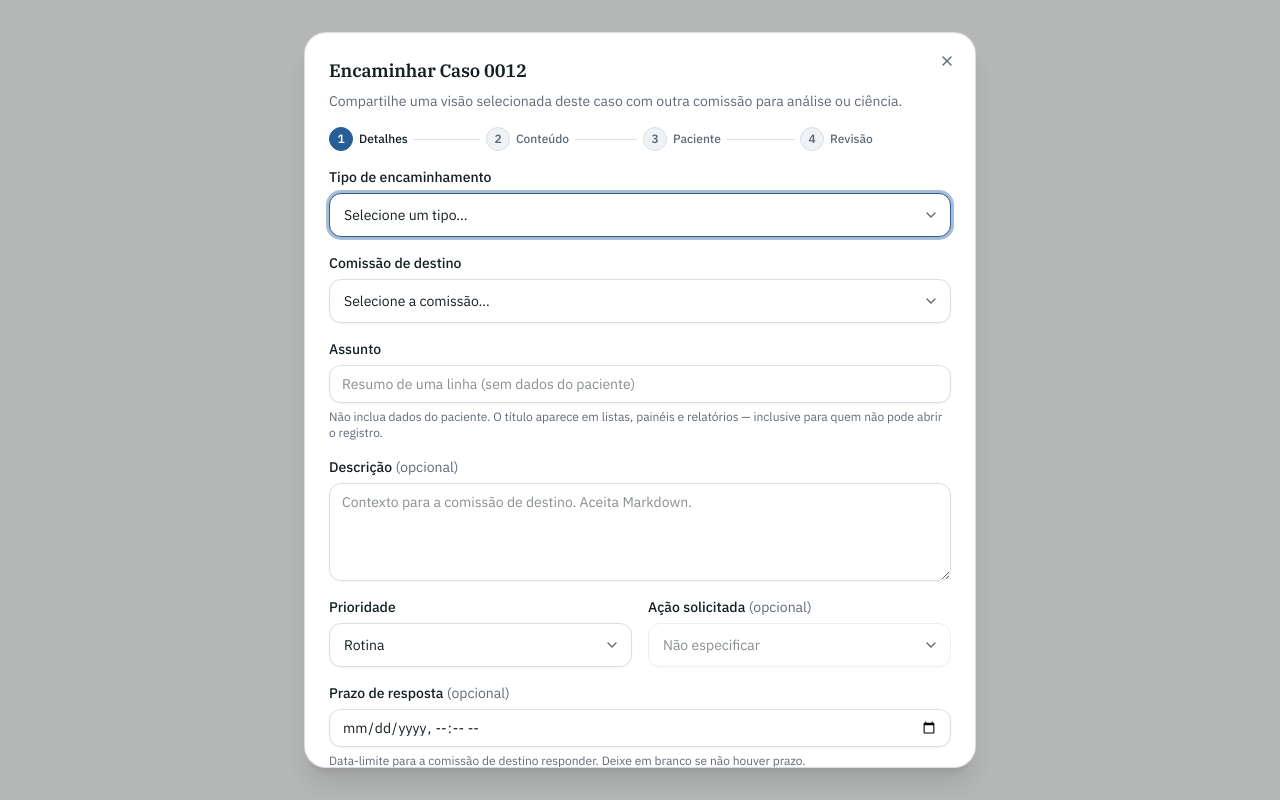
Test: referral wizard — the review step's advance MRN warning › 1 warns on a FRESH draft with no prontuário — the majority path
Select "Parecer" in the dropdown labelled "Tipo de encaminhamento" at (640, 215), box left=329, top=193, right=951, bottom=237
Select "Comissão de Destino" in the dropdown labelled "Comissão de destino" at (640, 301), box left=329, top=279, right=951, bottom=323
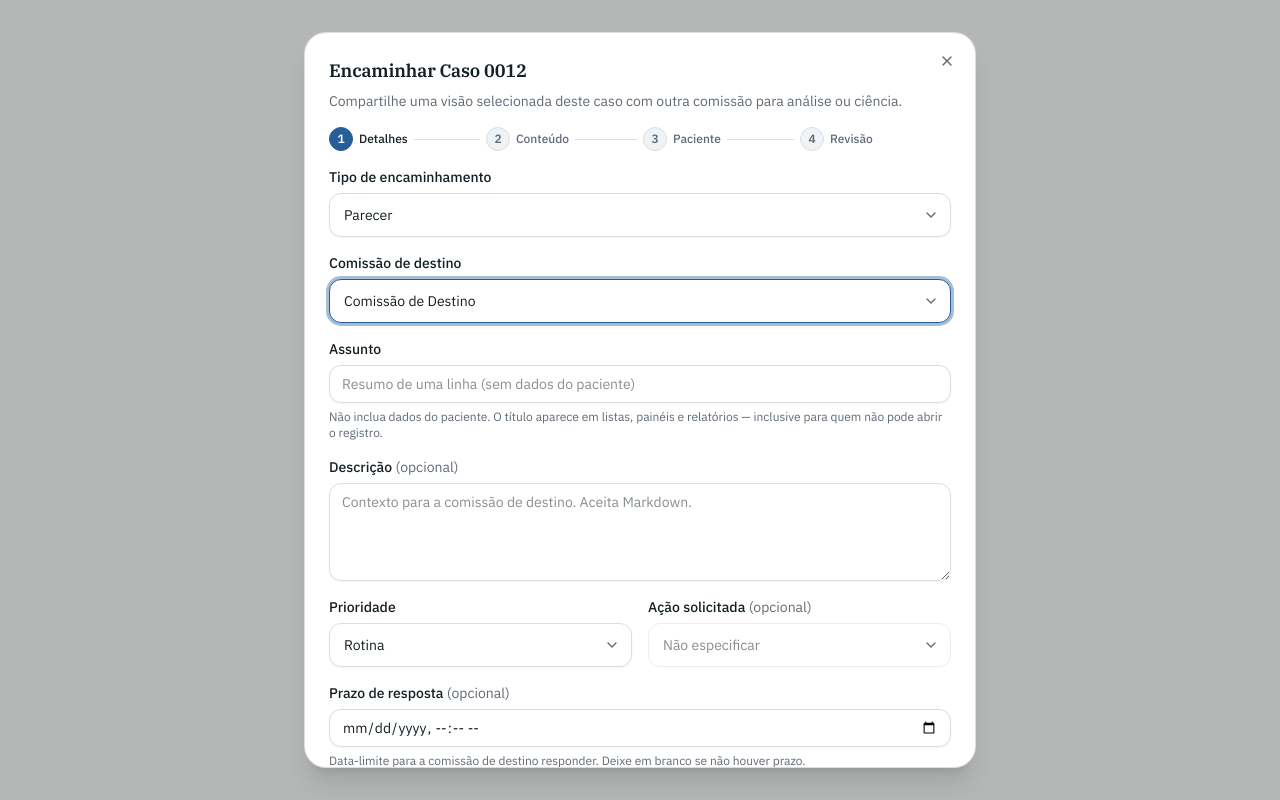
Type "Parecer sobre o caso" into the field labelled "Assunto" at (640, 384), box left=329, top=365, right=951, bottom=403
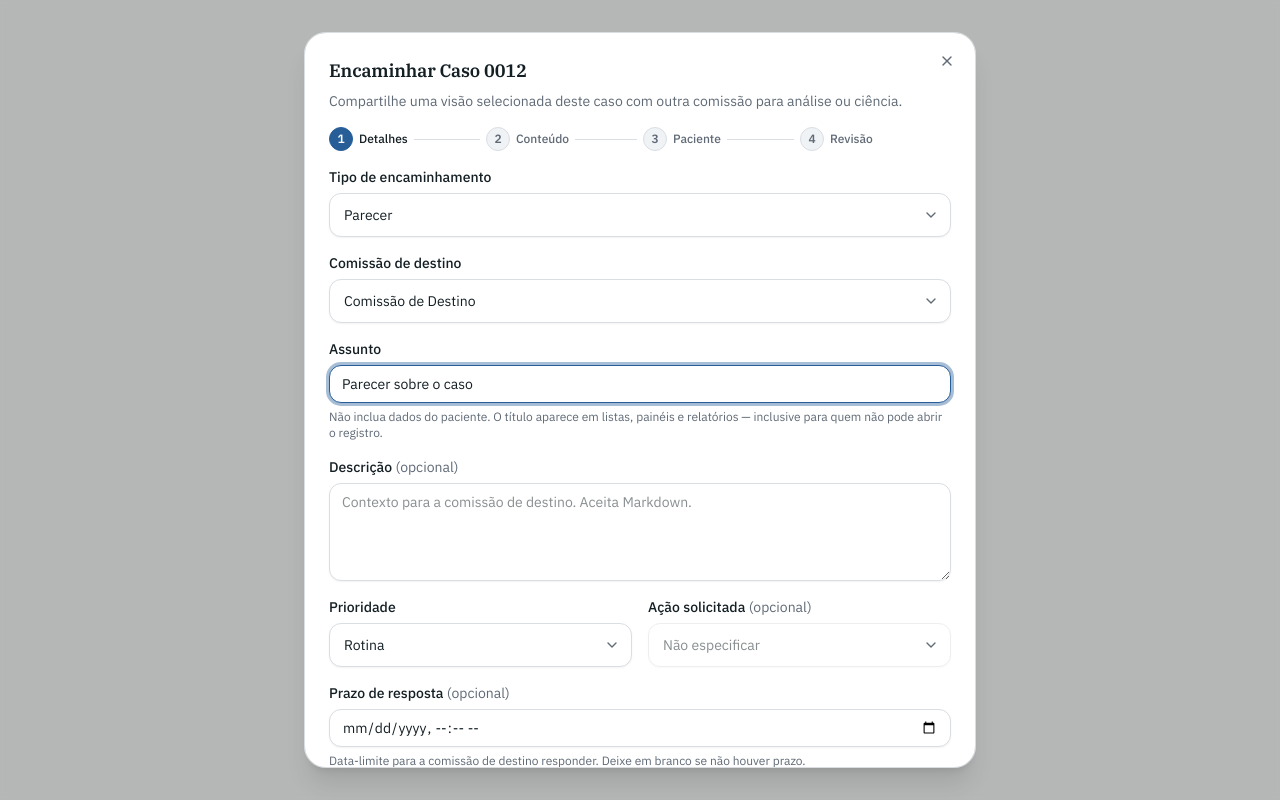
Type "Descricao suficiente para enviar." into the text box labelled "Descrição (opcional)" at (640, 532), box left=329, top=483, right=951, bottom=581
(page scrolled)
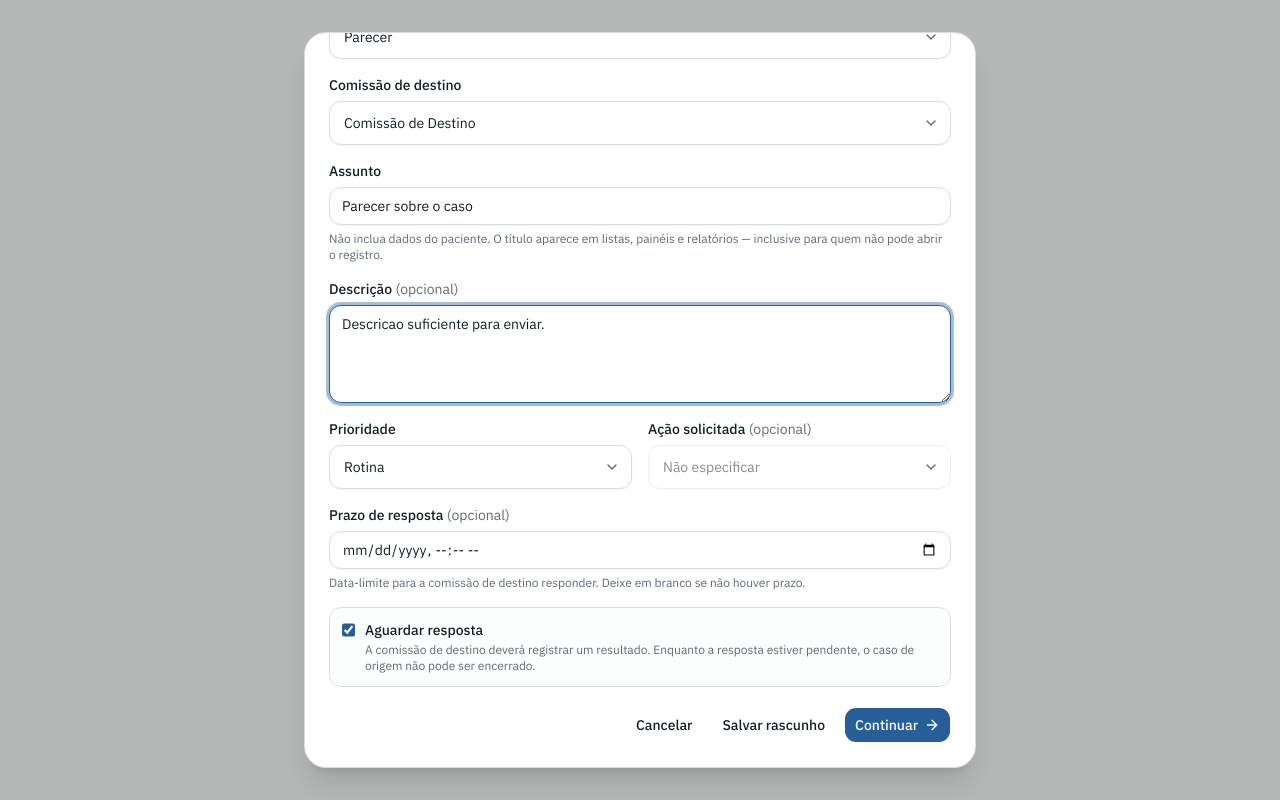
Now the button "Continuar" is enabled
Click the button "Continuar" at (898, 725), box left=844, top=707, right=951, bottom=743
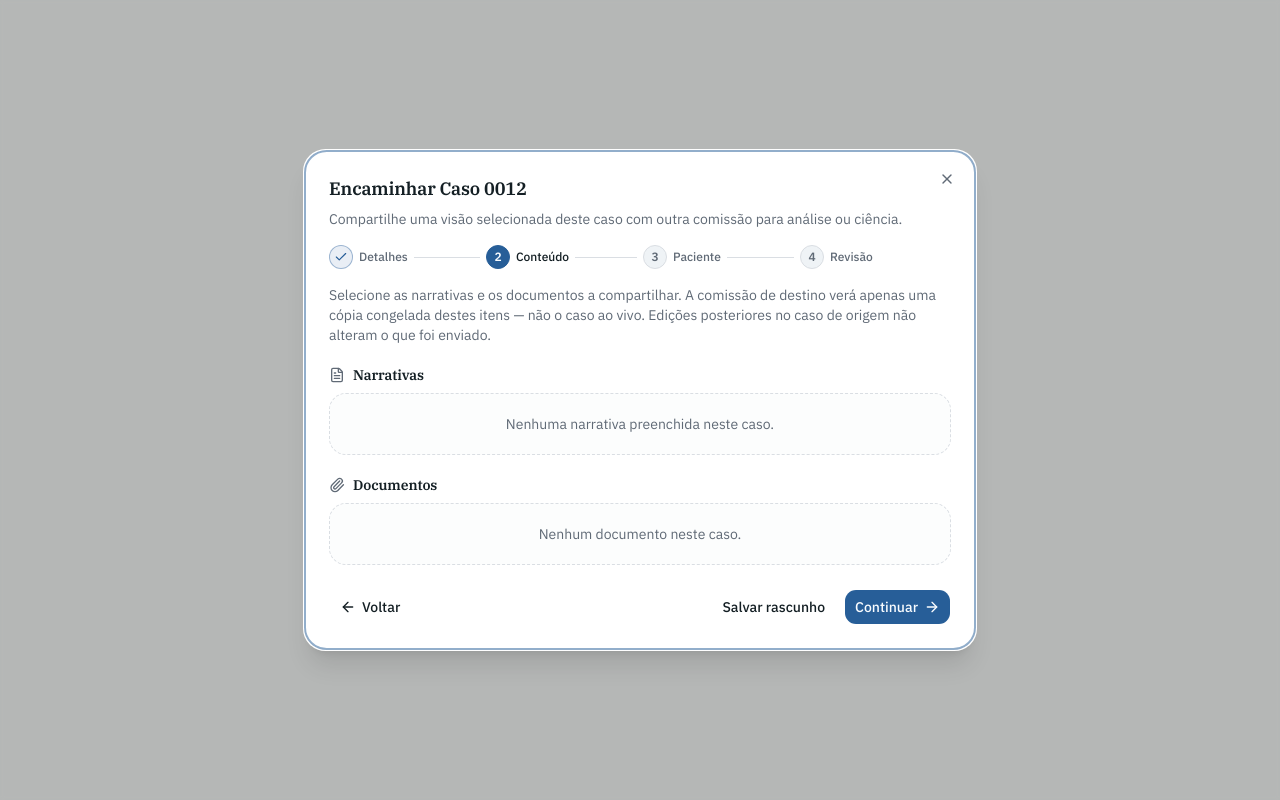
Click the button "Continuar" at (898, 607), box left=844, top=589, right=951, bottom=625
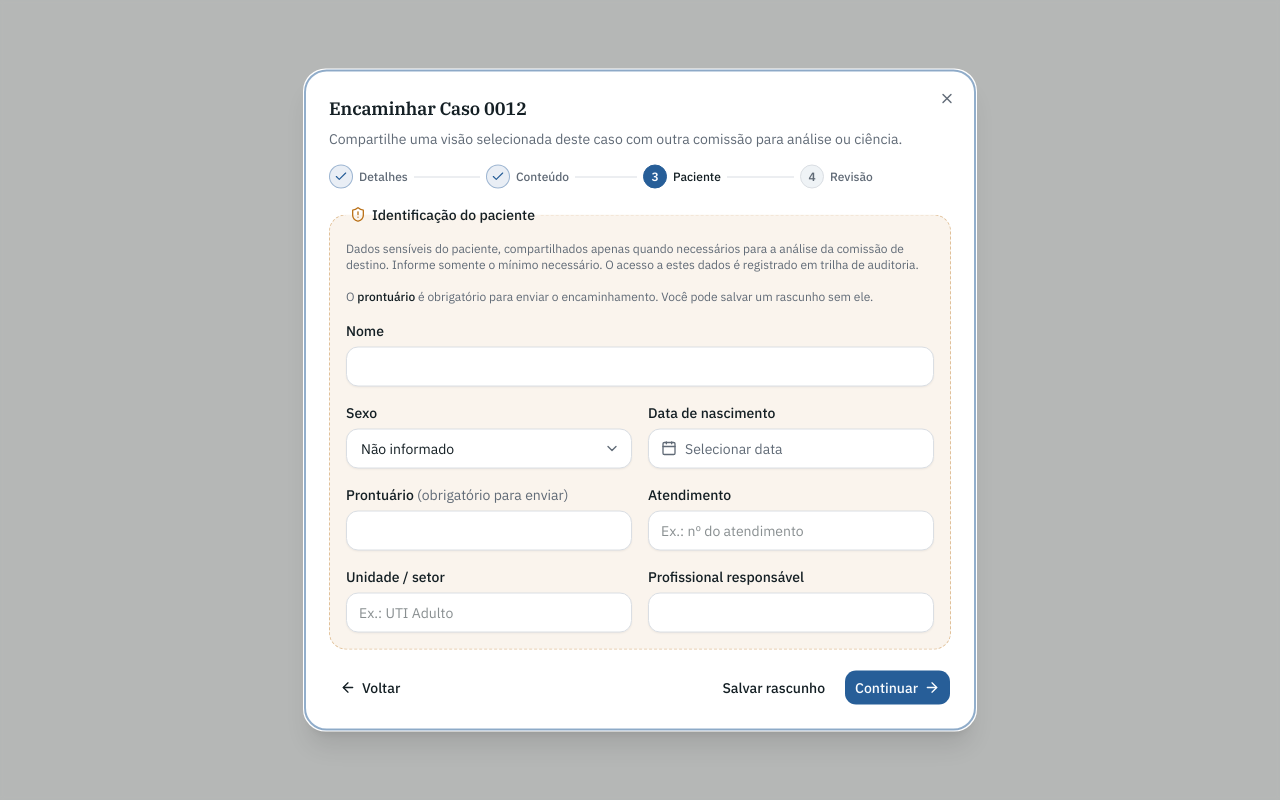
Now the button "Continuar" is enabled
Click the button "Continuar" at (898, 688), box left=844, top=670, right=951, bottom=706
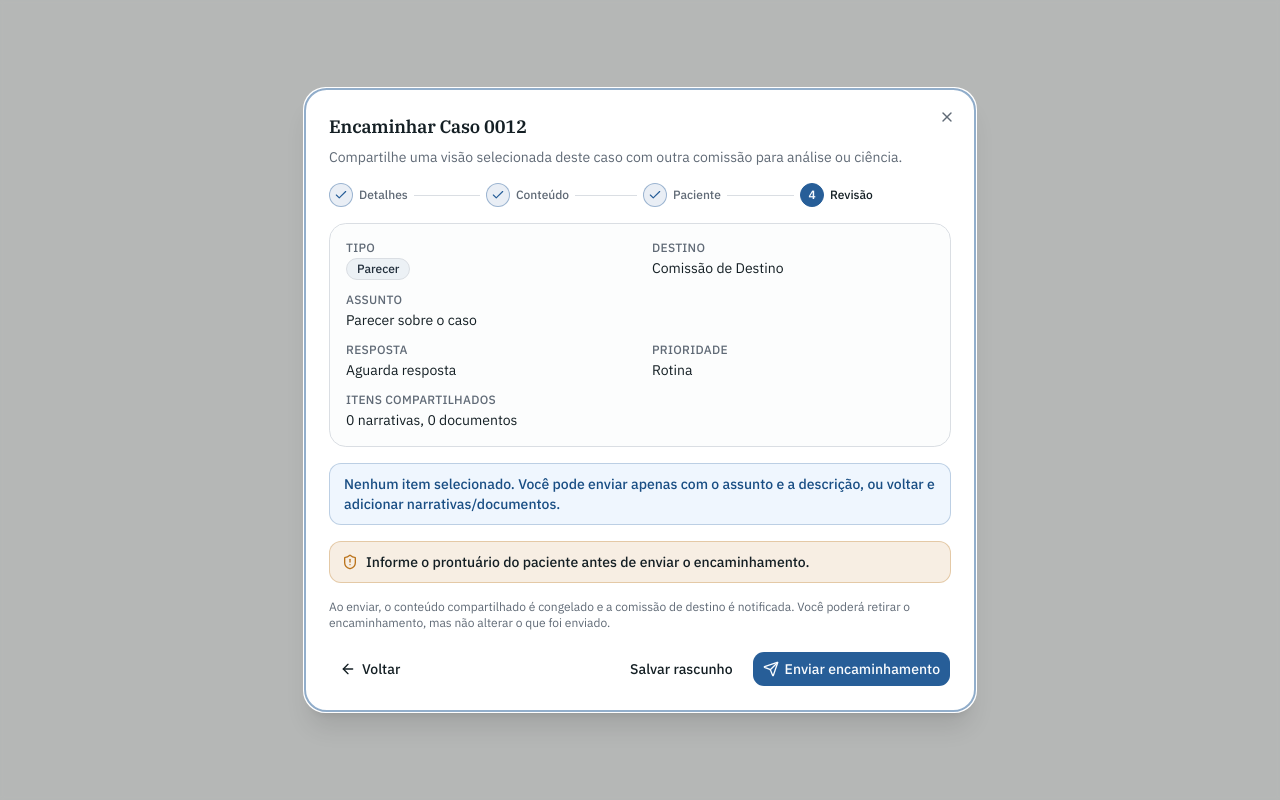
Now the button "Enviar encaminhamento" is shown, box left=752, top=651, right=951, bottom=687
Now the text "Informe o prontuário do paciente antes de enviar o encaminhamento." is shown, box left=366, top=552, right=810, bottom=572
